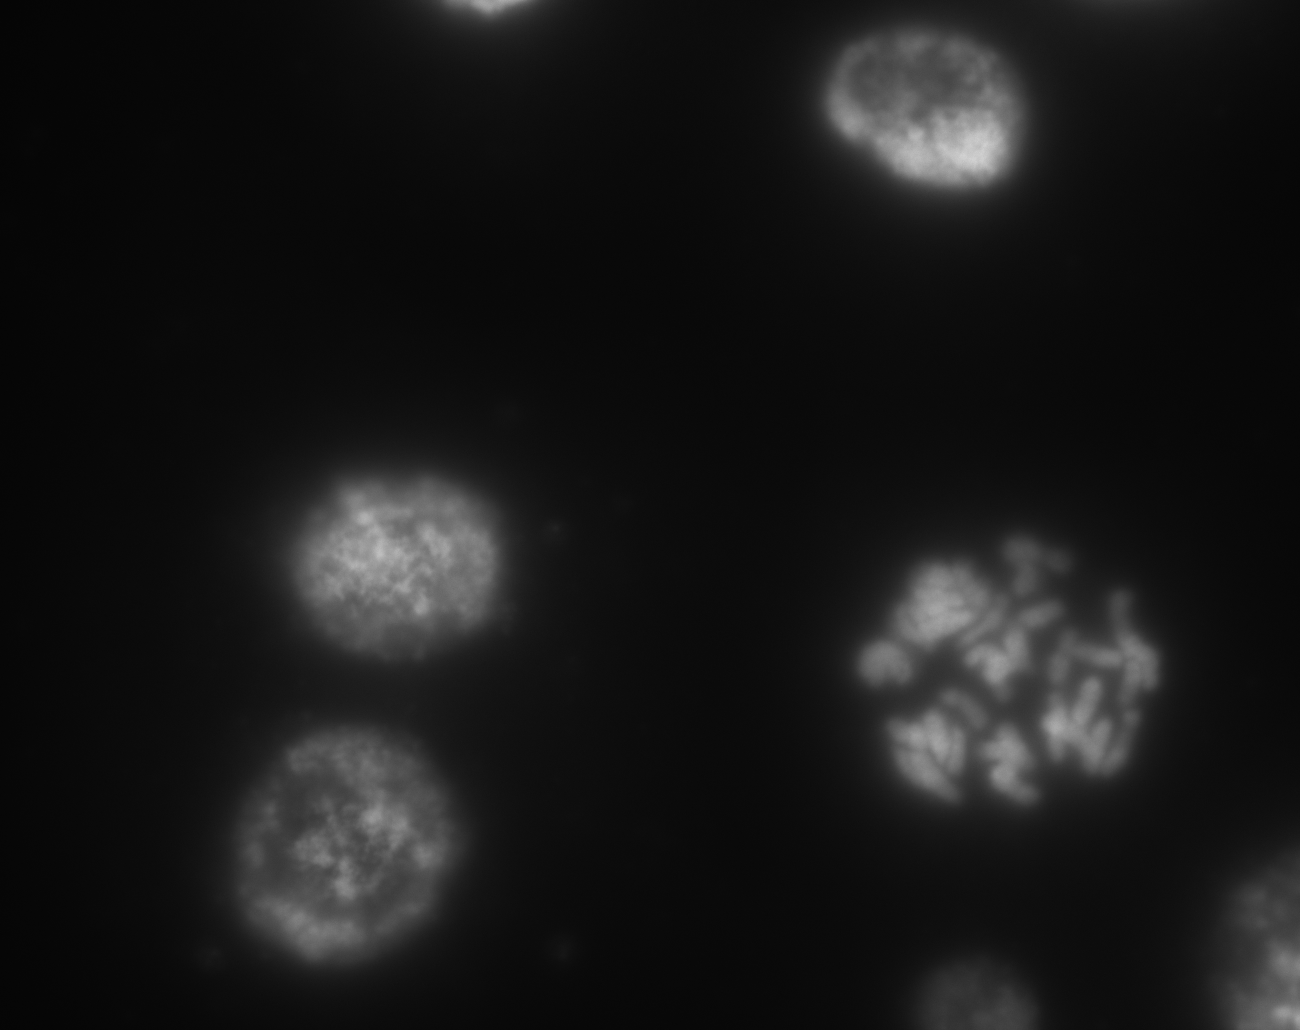Chromosomes: (835, 476, 1198, 850)
Others: (162, 675, 522, 1017), (213, 415, 554, 678), (764, 11, 1094, 220), (1148, 840, 1300, 1023), (867, 911, 1088, 1015)
